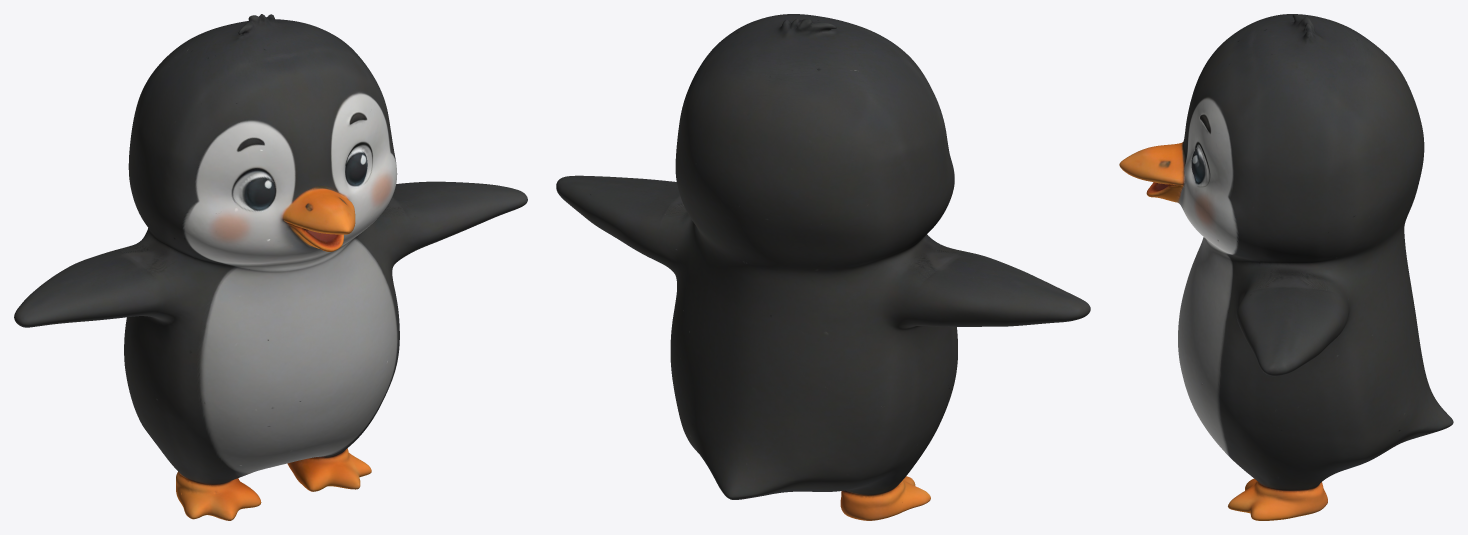
File: Meshy_AI_Happy_Penguin_0714043919_texture.fbx
3 renders of one model, left to right at view 1: azimuth 30°, elevation 25°; view 2: azimuth 150°, elevation 25°; view 3: azimuth 270°, elevation 25°, orthographic. The views are drawn at different scales.
Parts seen in each view (by area): view 1: Mesh_0; view 2: Mesh_0; view 3: Mesh_0.
Boxes of the visible parts, x1,y1,x2,y2 form: Mesh_0: [14, 14, 527, 520]; Mesh_0: [556, 14, 1090, 520]; Mesh_0: [1119, 14, 1453, 520].
Size of the model in its own units: 200 by 175 by 114.
Materials: 1 (1 with a texture image).
